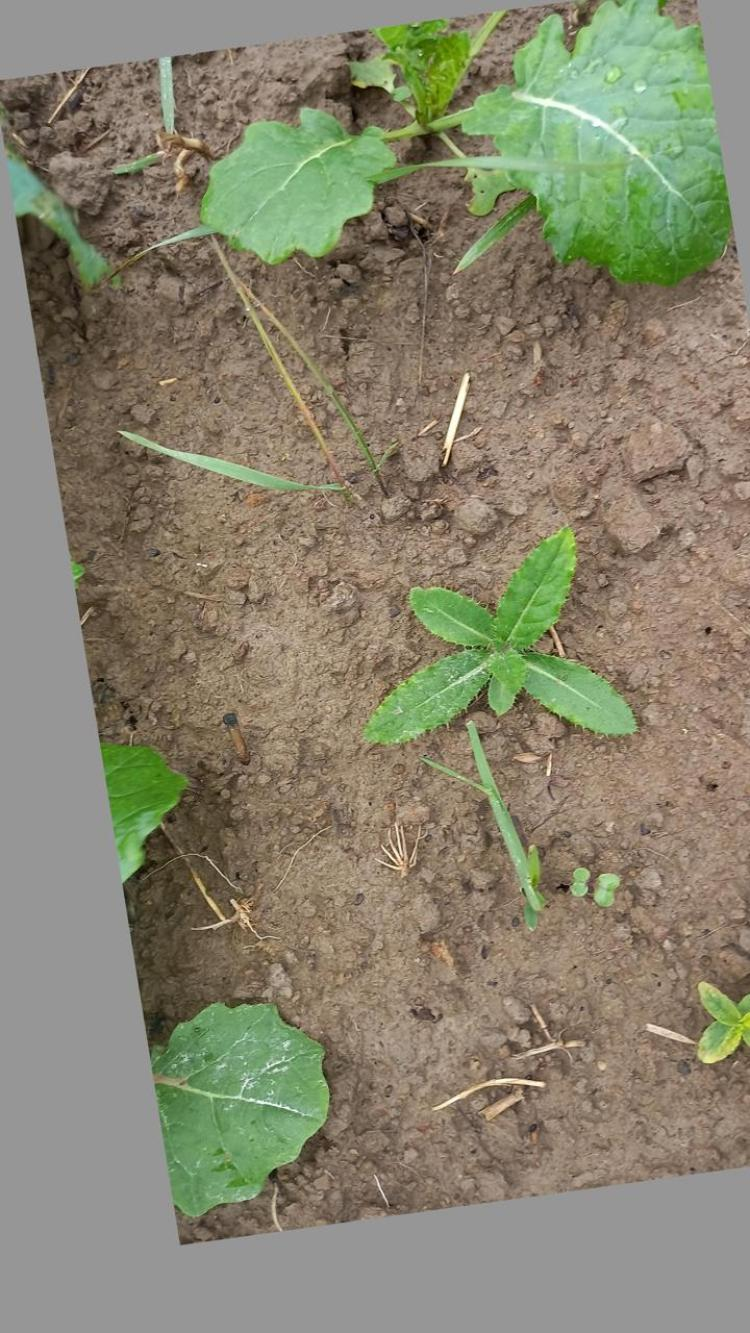bodyak: (356, 523, 648, 758)
